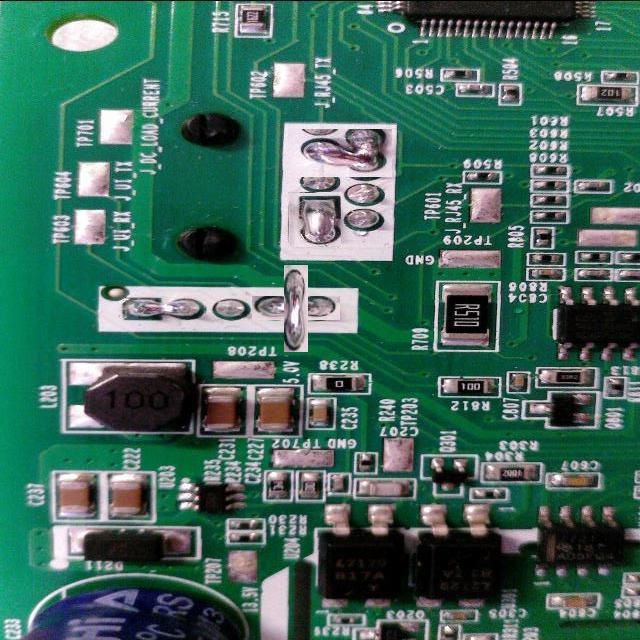Short_circuit: (288, 129, 392, 177), (268, 280, 324, 336), (288, 192, 341, 247), (122, 295, 206, 317)
